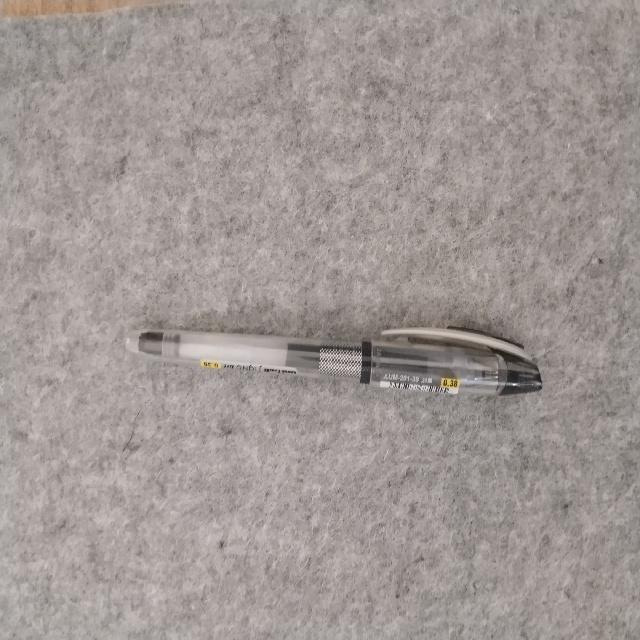pen: (126, 328, 541, 395)
